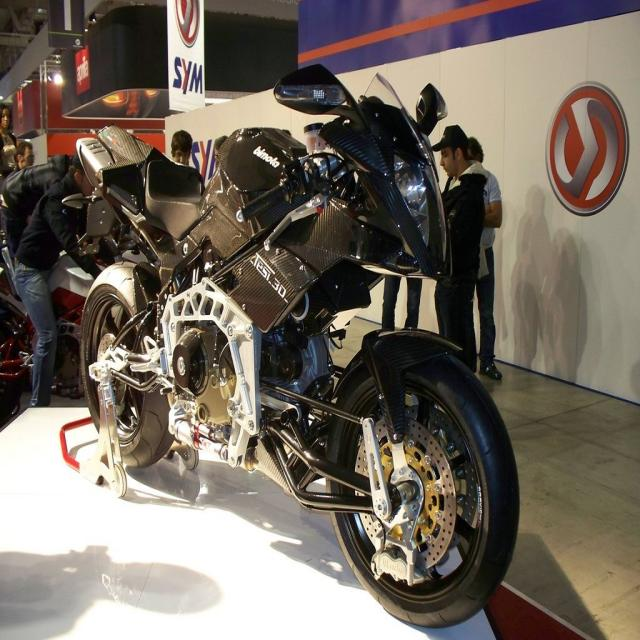Motorbikes: (72, 80, 513, 633)
